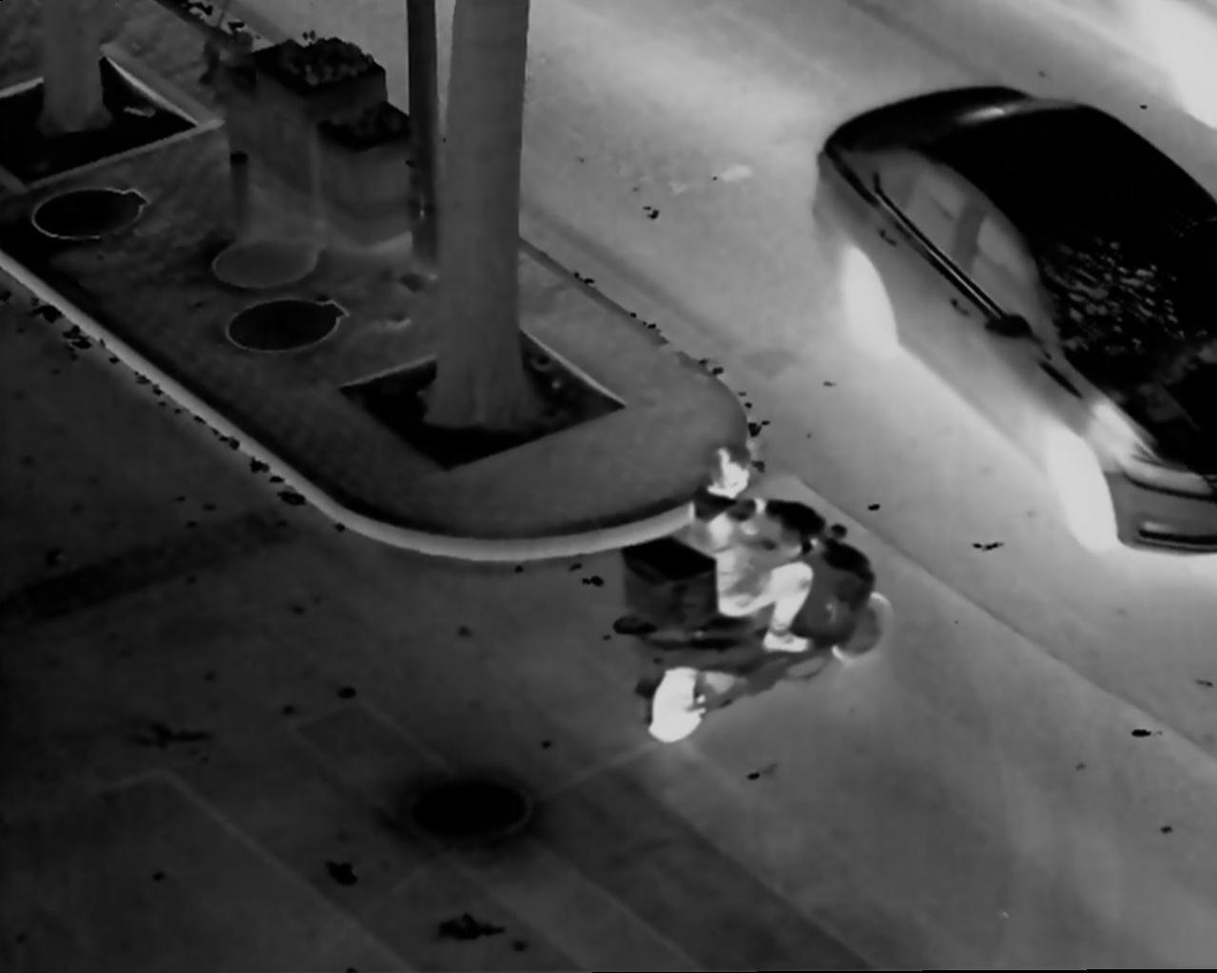person: (686, 442, 828, 662)
